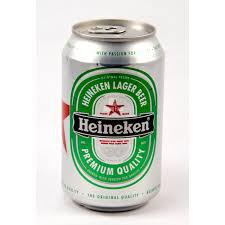beer: (60, 20, 166, 211)
